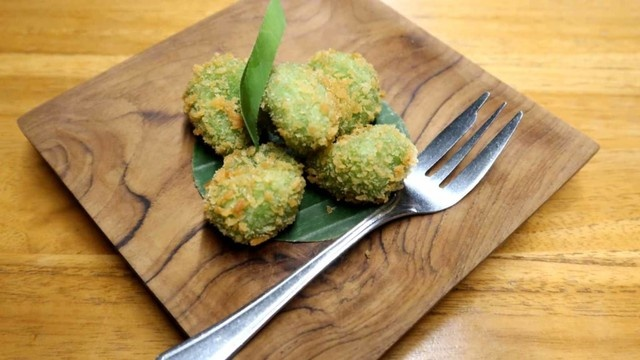klepon: (186, 134, 300, 242)
